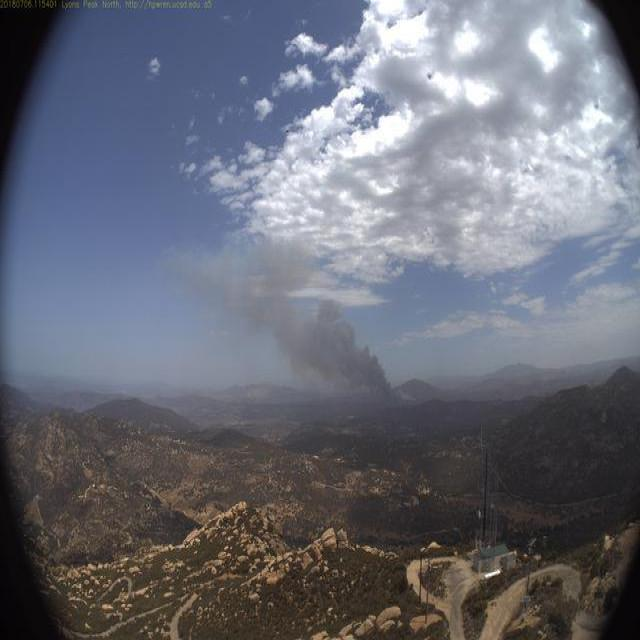smoke: (158, 221, 421, 427)
